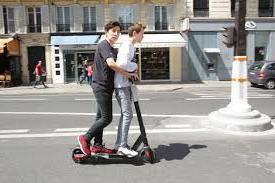multiple: (70, 19, 156, 166)
